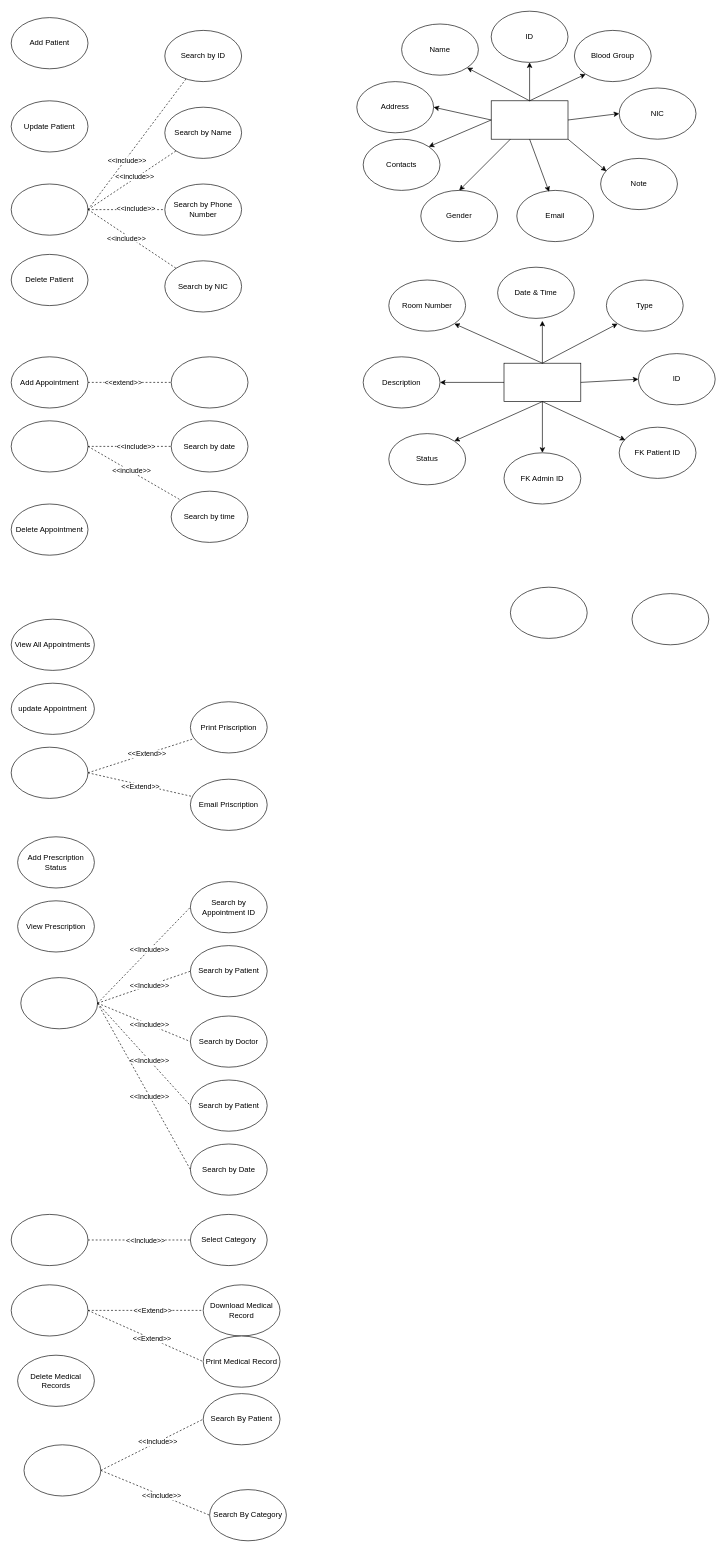
This 726x1552 diagram has some shape labels left out. Each missing label, with the centre of its shape:
Add Medical Records: (49,1240)
Appointment: (542,382)
Issue Priscription: (49,772)
Patient: (529,119)
Search Available Appointment: (49,446)
Search Medical Records: (62,1470)
Search Patient: (49,209)
Search Prescription: (59,1003)
Send Email: (209,382)
View Medical Records: (49,1310)
